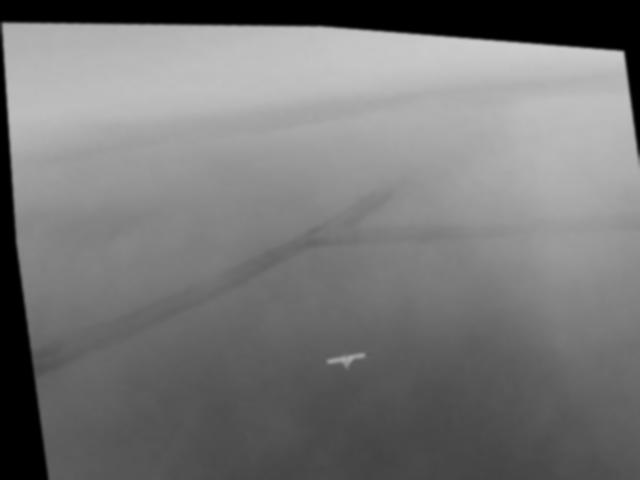hedef: (308, 331, 378, 381)
